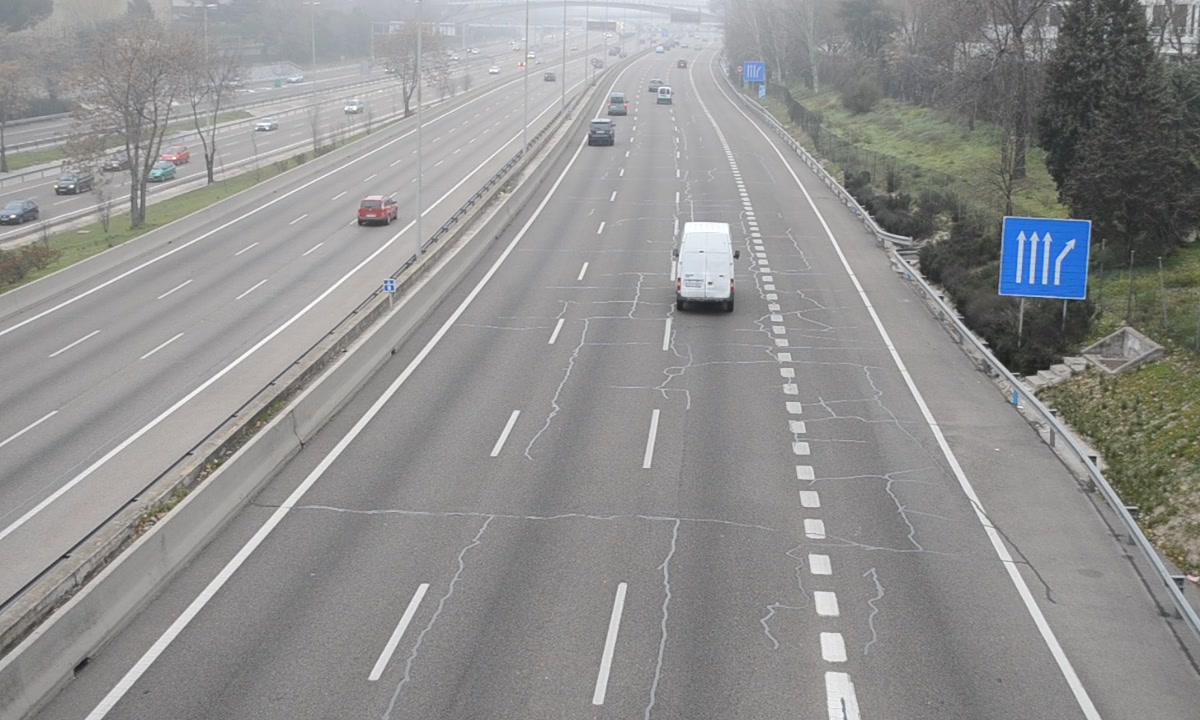car: (587, 118, 616, 148)
van: (675, 222, 736, 311), (606, 92, 628, 117)
